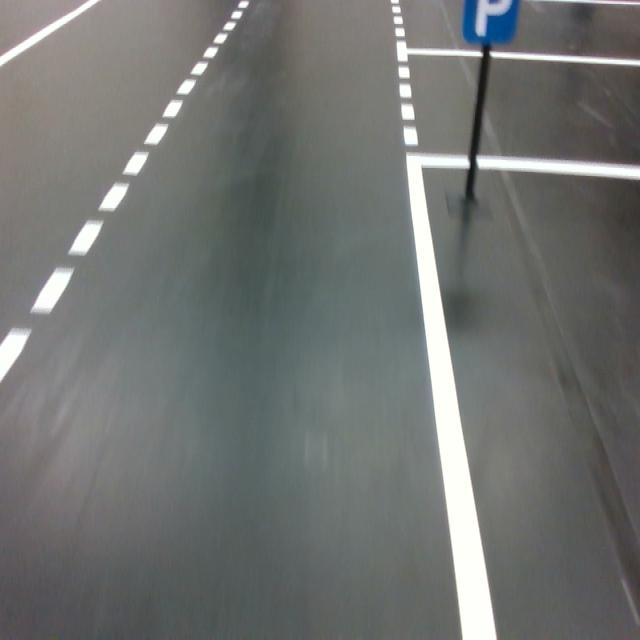parking-sign: (462, 0, 520, 45)
